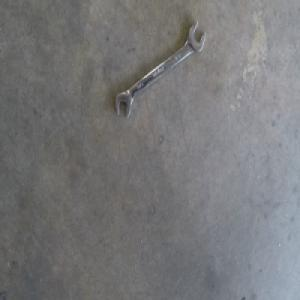Wrench: (115, 23, 206, 119)
